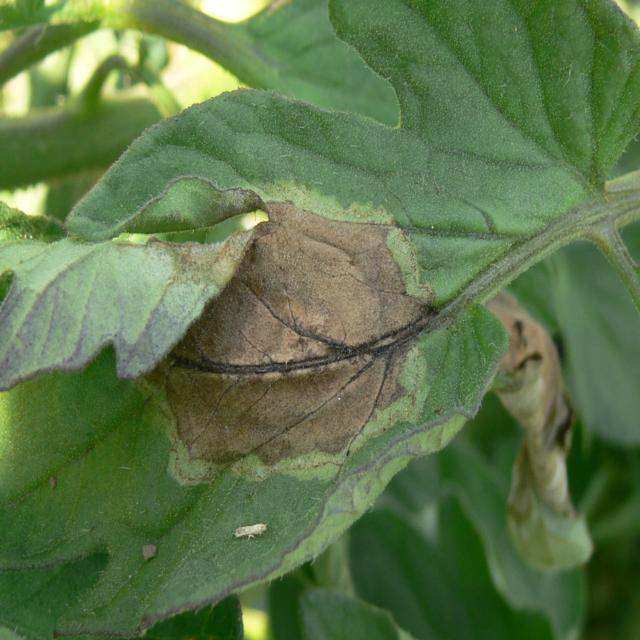Late_blight: (111, 182, 440, 491), (475, 293, 574, 528)
